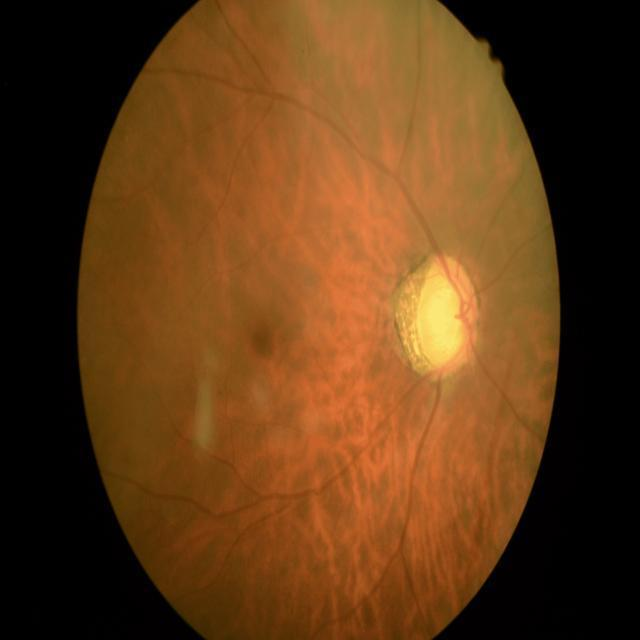cup: (420, 273, 470, 367)
disk: (415, 256, 482, 374)
